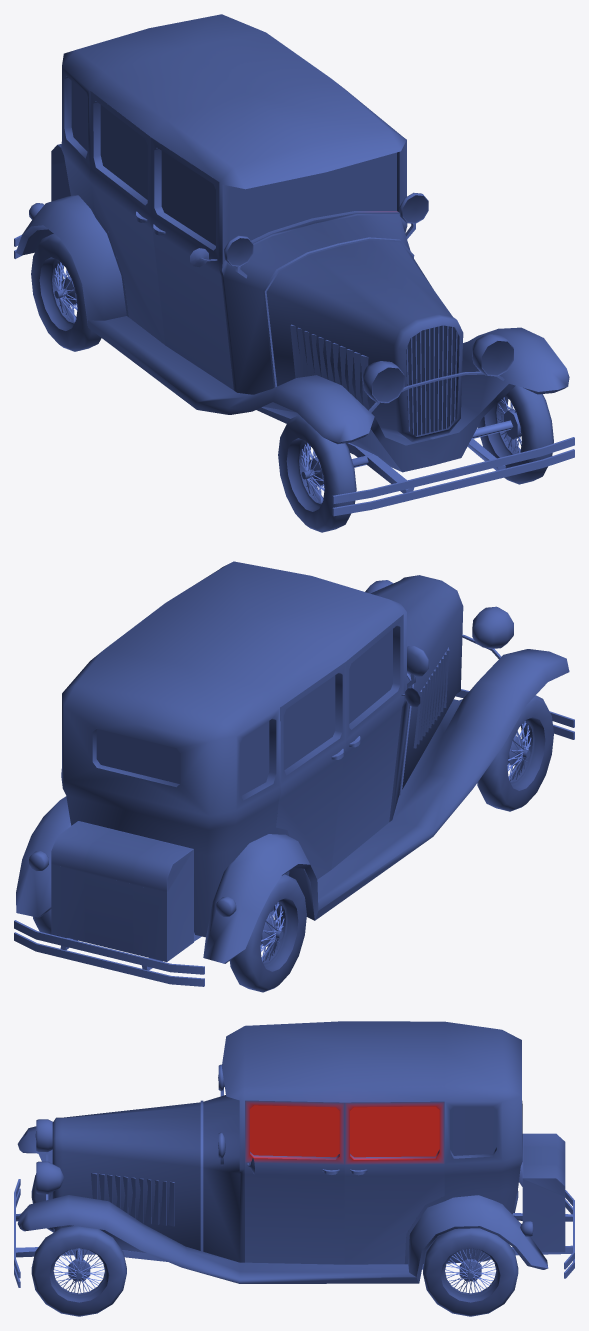
3 views of the same model, one above another, from view 1: azimuth 30°, elevation 25°; view 2: azimuth 150°, elevation 25°; view 3: azimuth 270°, elevation 25° (orthographic). The views are drawn at different scales.
Parts seen in each view (by area): view 1: car01_extraheadlights; view 2: car01_extraheadlights; view 3: car01_extraheadlights.
Part boxes in pixels (left/top/right/bottom): car01_extraheadlights: left=14, top=14, right=574, bottom=532; car01_extraheadlights: left=14, top=561, right=574, bottom=992; car01_extraheadlights: left=14, top=1021, right=574, bottom=1316.
Bounding box in the file's own units: 1.76 × 1.9 × 4.26.
